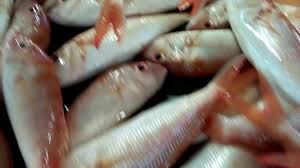Ikan Kerisi: (2, 32, 75, 168), (52, 59, 169, 115), (142, 24, 260, 79)
